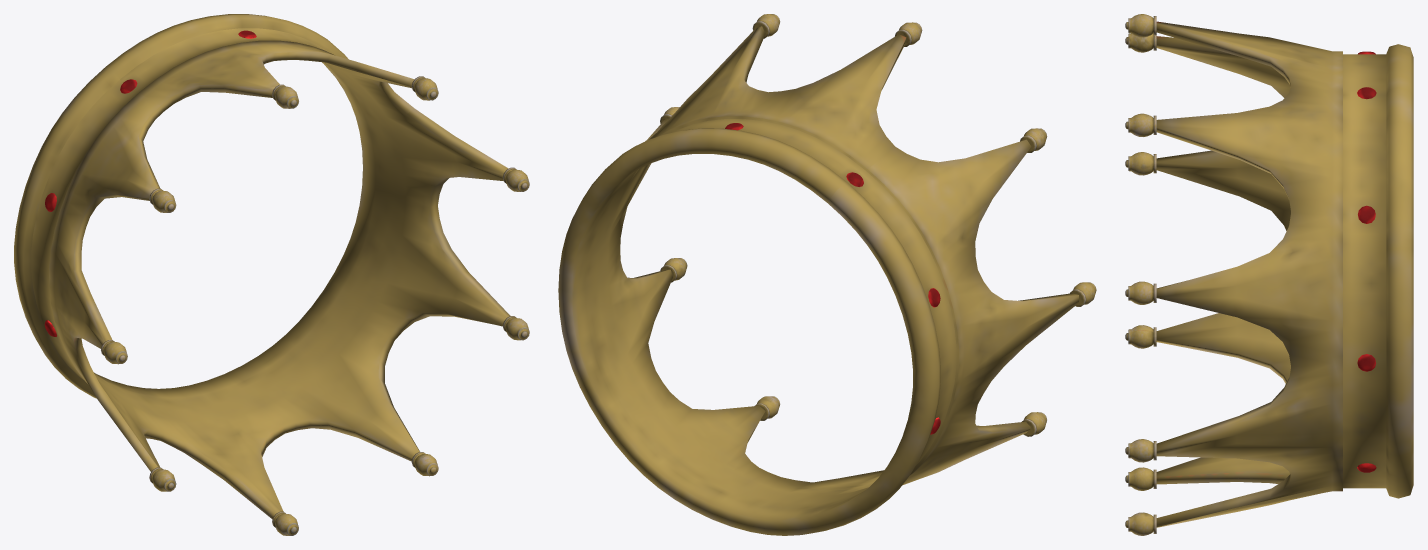
File: crown.glb
The picture shows the model from 3 angles, left to right: view 1: azimuth 30°, elevation 25°; view 2: azimuth 150°, elevation 25°; view 3: azimuth 270°, elevation 25°; orthographic projection. The views are drawn at different scales.
Visible parts, largest first — view 1: Object_2; view 2: Object_2; view 3: Object_2.
Part boxes in pixels (left/top/right/bottom): Object_2: left=14, top=14, right=529, bottom=535; Object_2: left=558, top=14, right=1096, bottom=535; Object_2: left=1125, top=14, right=1413, bottom=535.
Size of the model in its own units: 0.3942 by 0.4 by 0.2199.
Materials: 1 (1 with a texture image).
